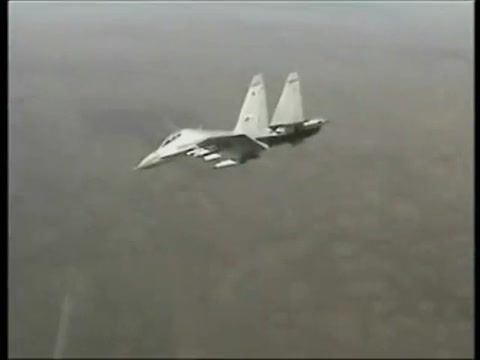aeroplane: (136, 71, 330, 174)
